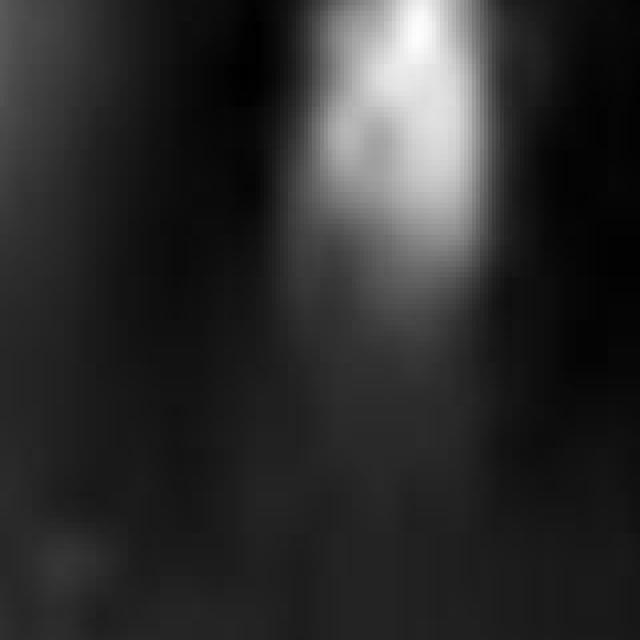person: (289, 1, 513, 390)
